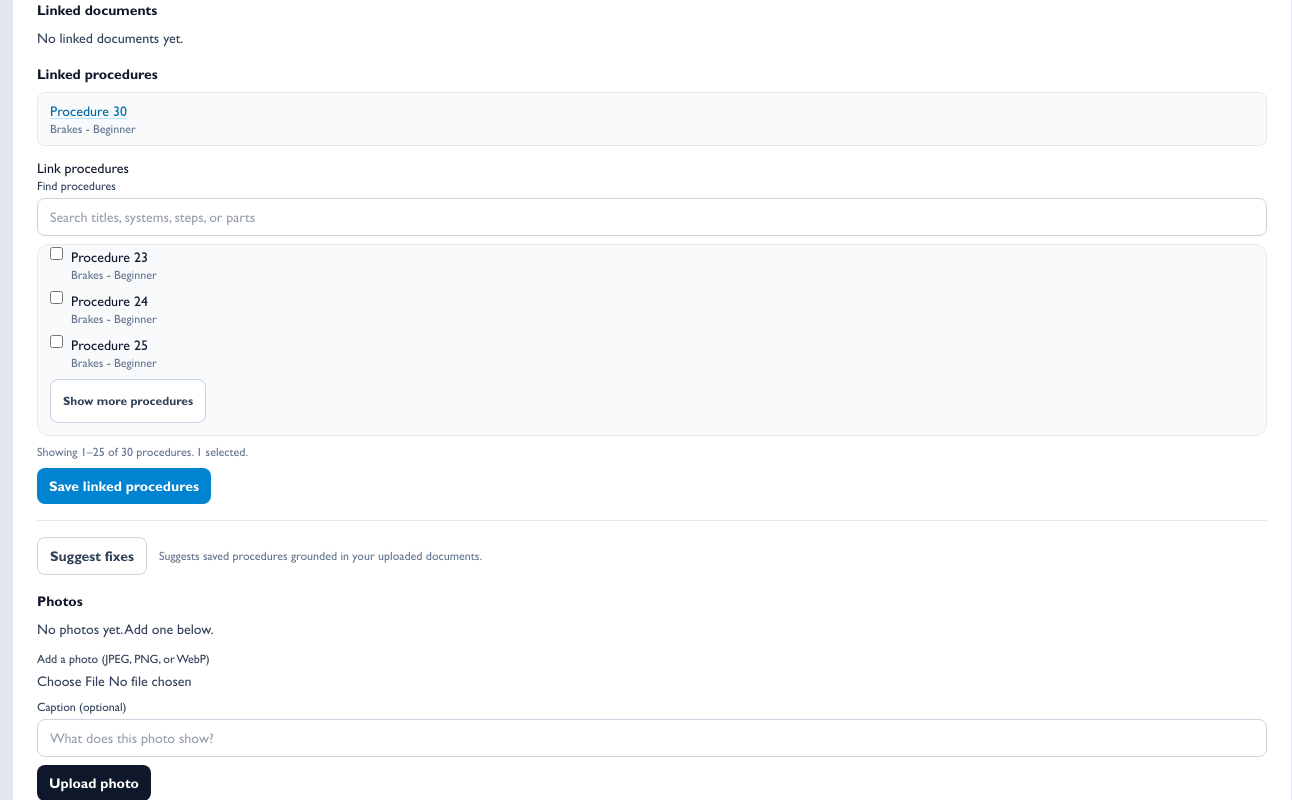
Test: linked procedures outside the picker's page stay visible, and Show more pages on
The image size is (1292, 800).
(page scrolled)
Expected: the link with aria-label "Open procedure Procedure 30" is shown, [50,103,127,119]
Expected: the text "Showing 1–25 of 30 procedures. 1 selected." is shown, [37,445,248,459]
Click the button "Show more procedures". click: (128, 401)
box: [50,379,206,423]
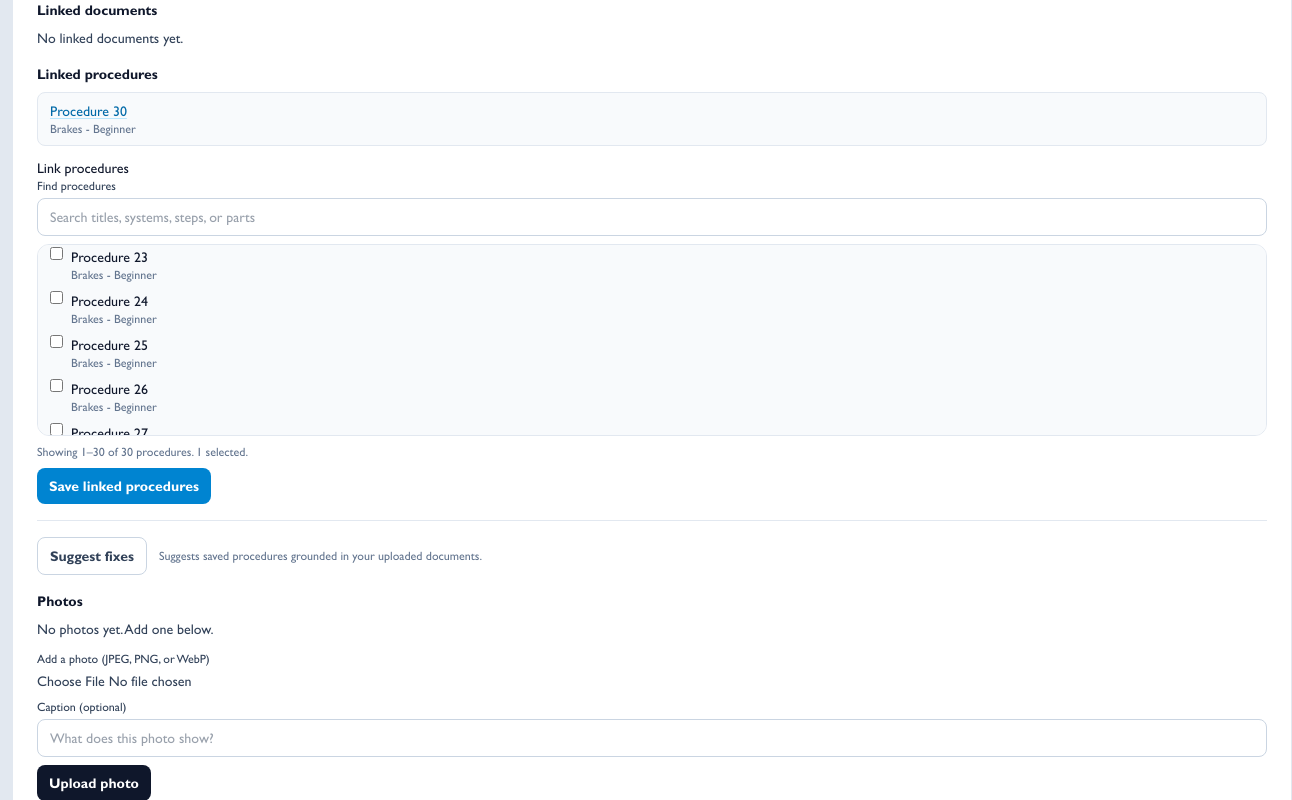
Expected: the button "Show more procedures" is gone
Searching narrows the picker on the server.
Type "Procedure 07" into the search field labelled "Find procedures". click: (652, 217)
box: [37,198,1267,236]
(page scrolled)
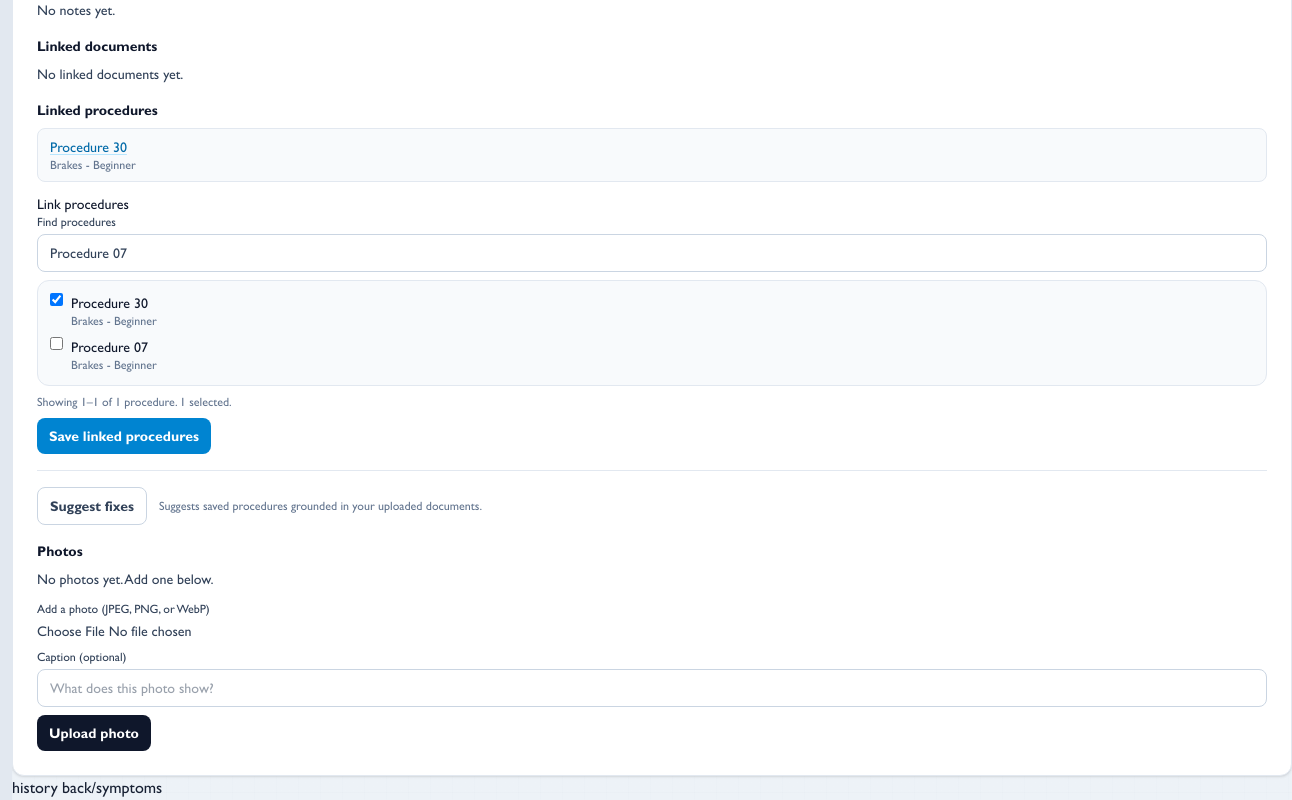
Expected: the checkbox labelled "Procedure 07 Brakes - Beginner" is shown, [50,337,63,350]
Expected: the checkbox labelled "Procedure 30 Brakes - Beginner" is checked, [50,293,63,306]
